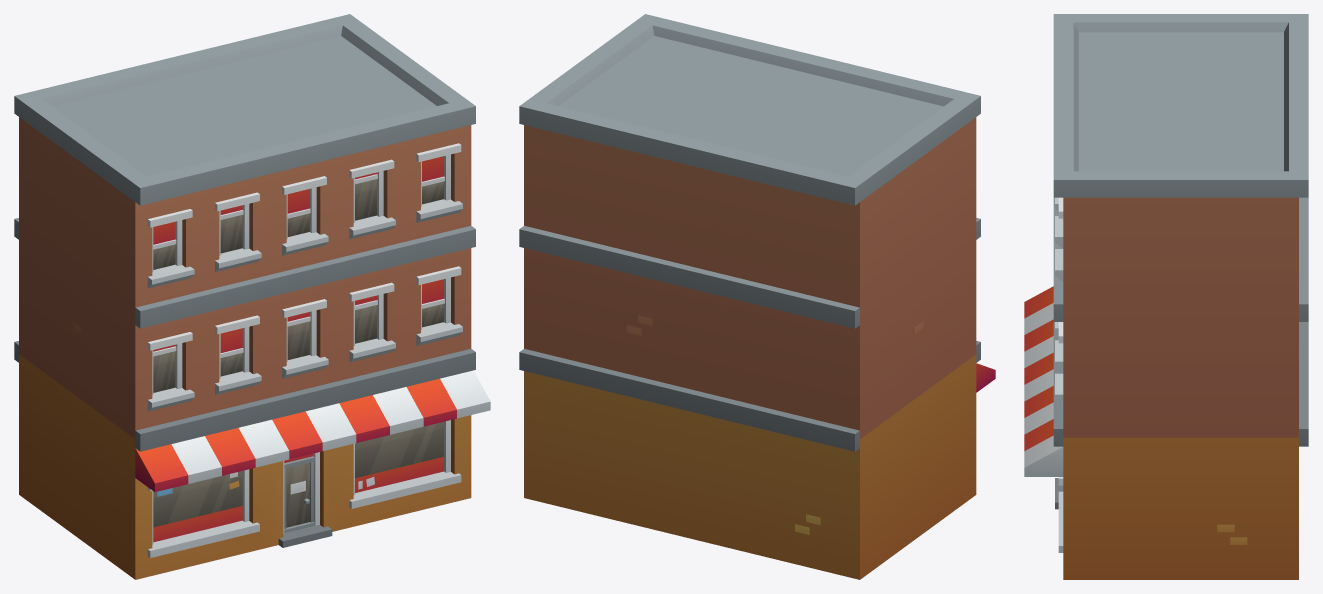
File: building_E_withoutBase-processed.glb
3 renders of one model, left to right at view 1: azimuth 30°, elevation 25°; view 2: azimuth 150°, elevation 25°; view 3: azimuth 270°, elevation 25°, orthographic.
Visible parts, largest first — view 1: building_E_withoutBase; view 2: building_E_withoutBase; view 3: building_E_withoutBase.
Part boxes in pixels (<box>): building_E_withoutBase: <box>14,14,490,579</box>; building_E_withoutBase: <box>519,14,995,579</box>; building_E_withoutBase: <box>1024,14,1308,579</box>.
Bounding box in the file's own units: 2.01 × 2.25 × 1.45.
Materials: 1 (1 with a texture image).
